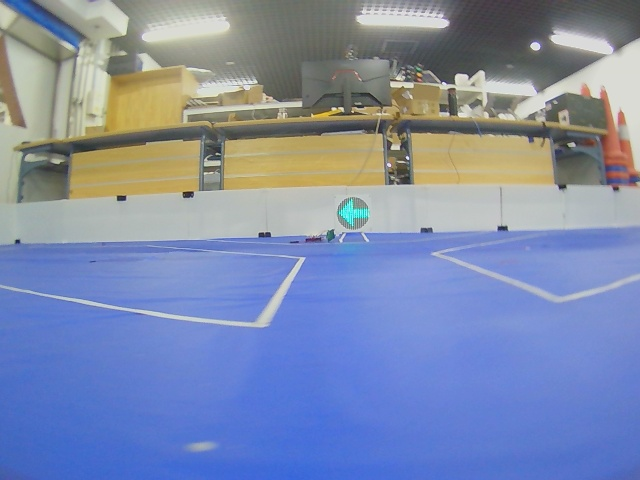left_green: (336, 196, 370, 231)
